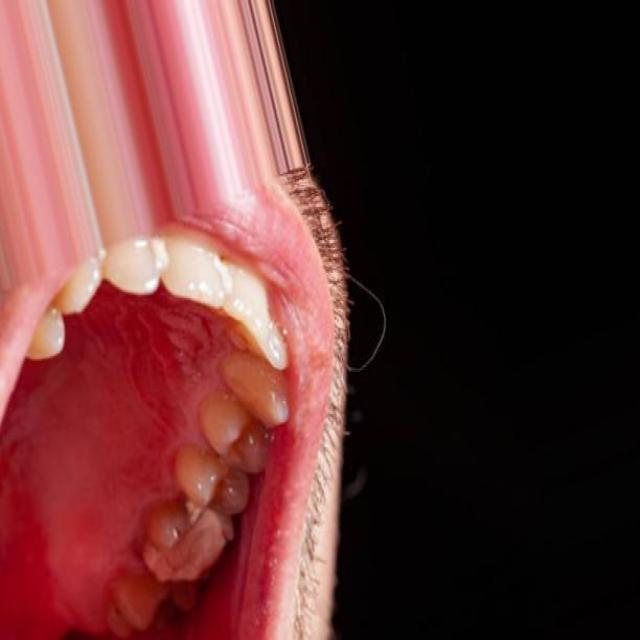caries: (152, 492, 241, 590)
